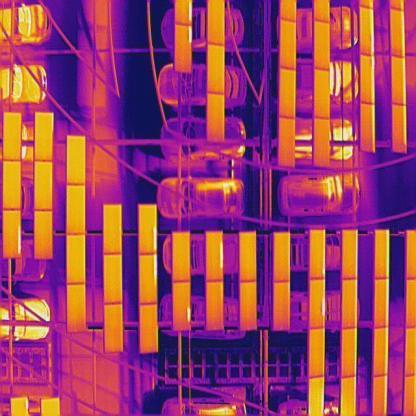Diode: (3, 209, 23, 258), (138, 206, 158, 254), (139, 254, 158, 304), (172, 281, 190, 332), (174, 24, 192, 74), (206, 233, 224, 282), (360, 102, 376, 152), (309, 278, 325, 328), (360, 54, 376, 104), (360, 6, 375, 56)
Hotspot: (309, 229, 325, 278)
Normal: (104, 304, 125, 352), (103, 254, 123, 304), (140, 304, 160, 354), (34, 112, 54, 161), (66, 135, 86, 184), (66, 284, 86, 332), (103, 204, 122, 254), (34, 210, 53, 260), (67, 234, 86, 284), (207, 43, 225, 95), (3, 160, 22, 209), (67, 185, 86, 234), (207, 92, 225, 143), (3, 112, 22, 160), (278, 116, 295, 169), (172, 232, 190, 282), (206, 281, 224, 331), (372, 326, 390, 376), (280, 18, 297, 70), (314, 20, 331, 72), (239, 233, 257, 282), (207, 0, 226, 46), (240, 281, 257, 332), (35, 161, 52, 210), (341, 231, 358, 280), (392, 102, 408, 154), (279, 68, 295, 118), (274, 282, 290, 332), (314, 69, 330, 118), (314, 118, 330, 167), (274, 233, 290, 282), (309, 328, 325, 377), (374, 280, 390, 328), (391, 56, 406, 105), (375, 230, 390, 278), (391, 7, 405, 58), (342, 280, 356, 328), (342, 329, 356, 377), (372, 375, 388, 416), (309, 376, 325, 416), (341, 377, 357, 416)
